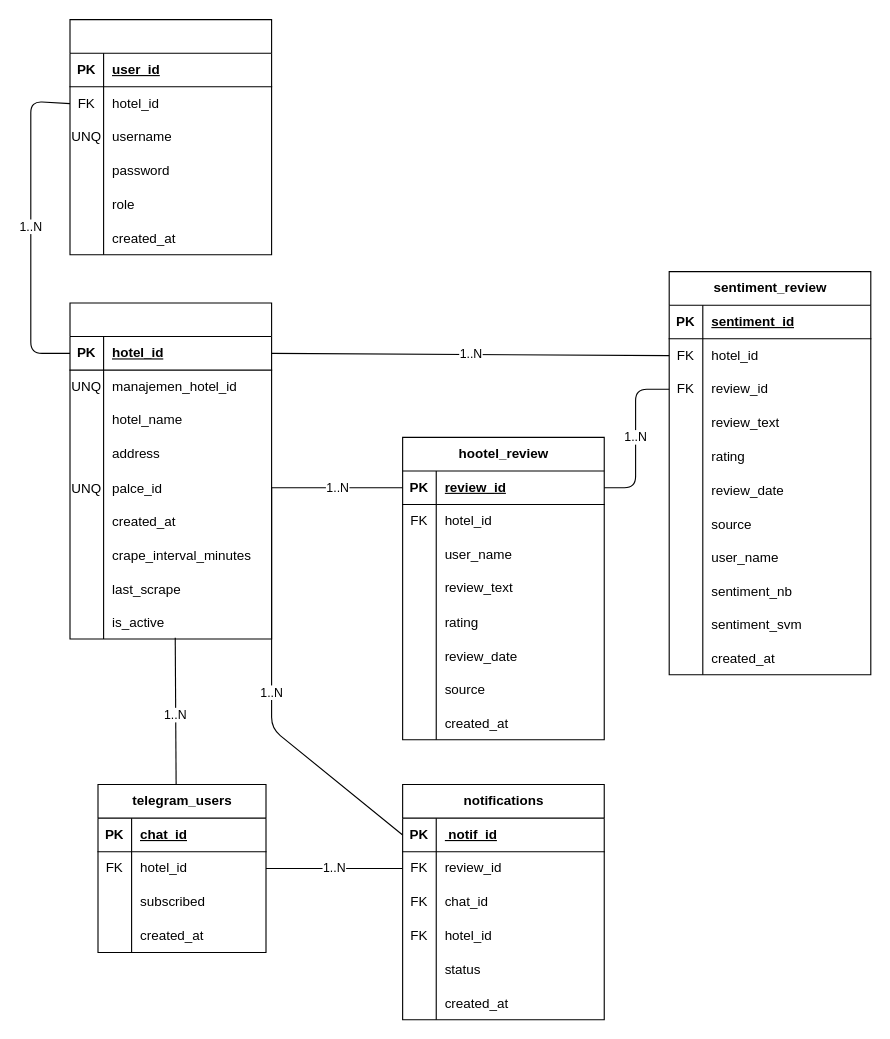
This 890x1039 diagram has some shape labels left out. Each missing label, with the box of its shape:
hotels: (69, 302, 272, 639)
users: (69, 18, 272, 255)
